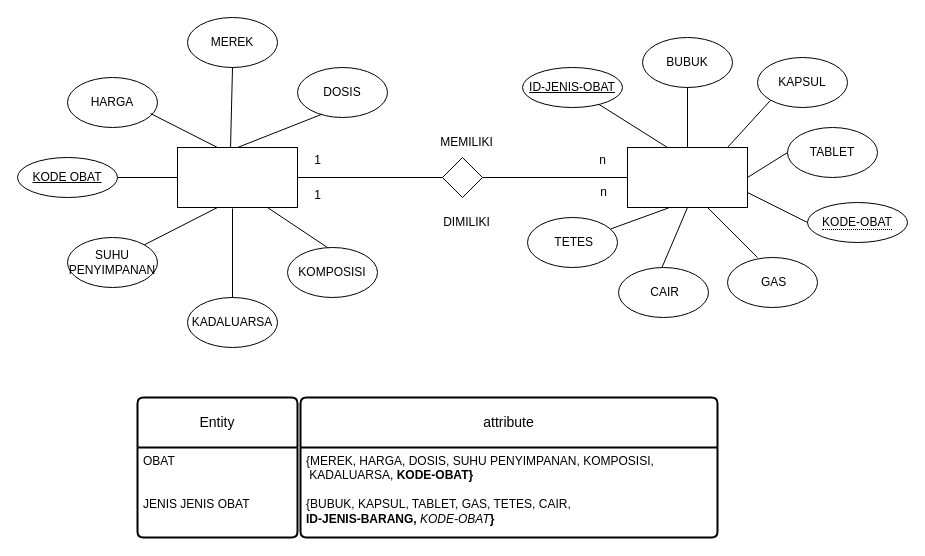
The diagram is 925 pixels wide and 556 high, and some of its shapes have lost their labels. The shapes that lost their labels are listed below. From the top down, each one's centre as x and y in pixels, then its label:
the point at 237,177: OBAT
the point at 687,177: JENIS JENIS OBAT
